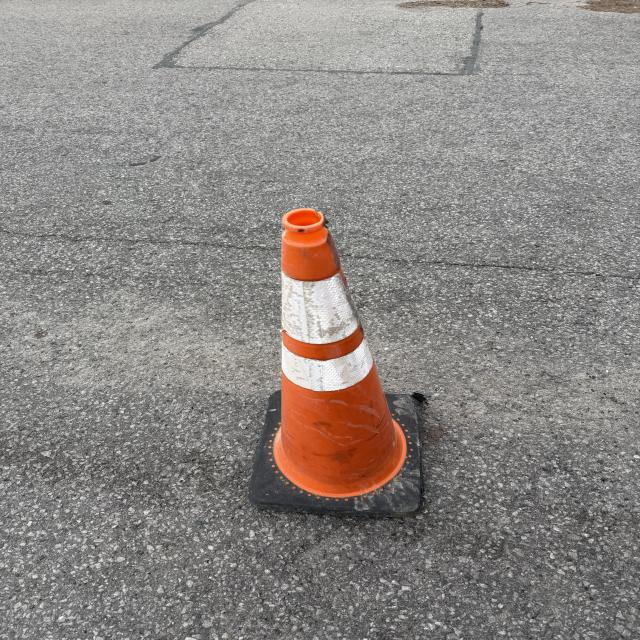Traffic Cone: (231, 210, 436, 519)
